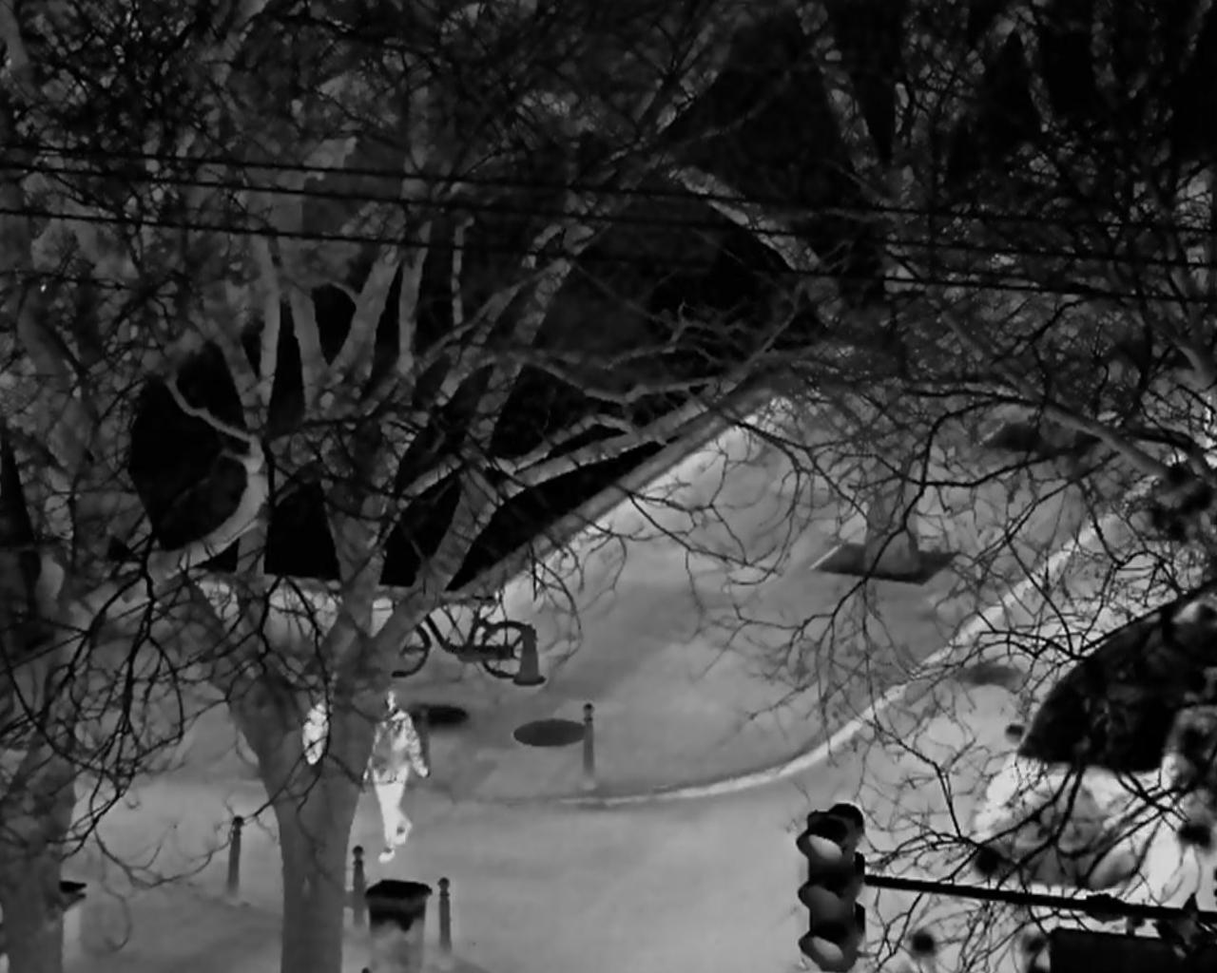person: (359, 689, 428, 864)
